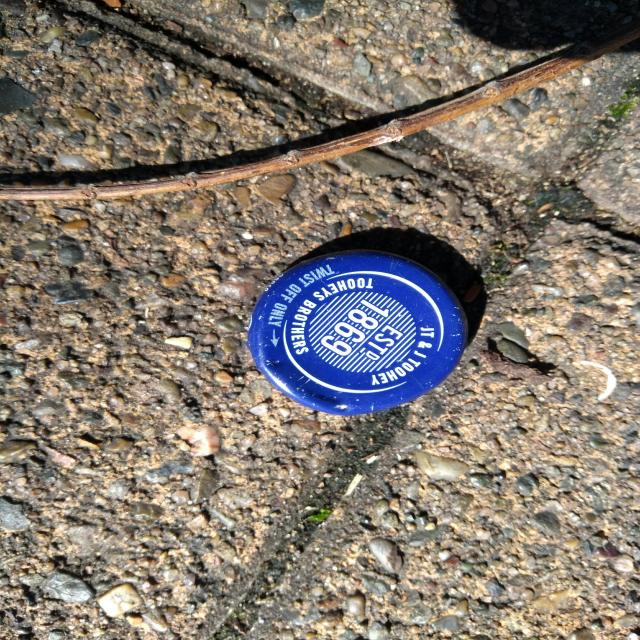Metal bottle cap: (247, 252, 469, 416)
